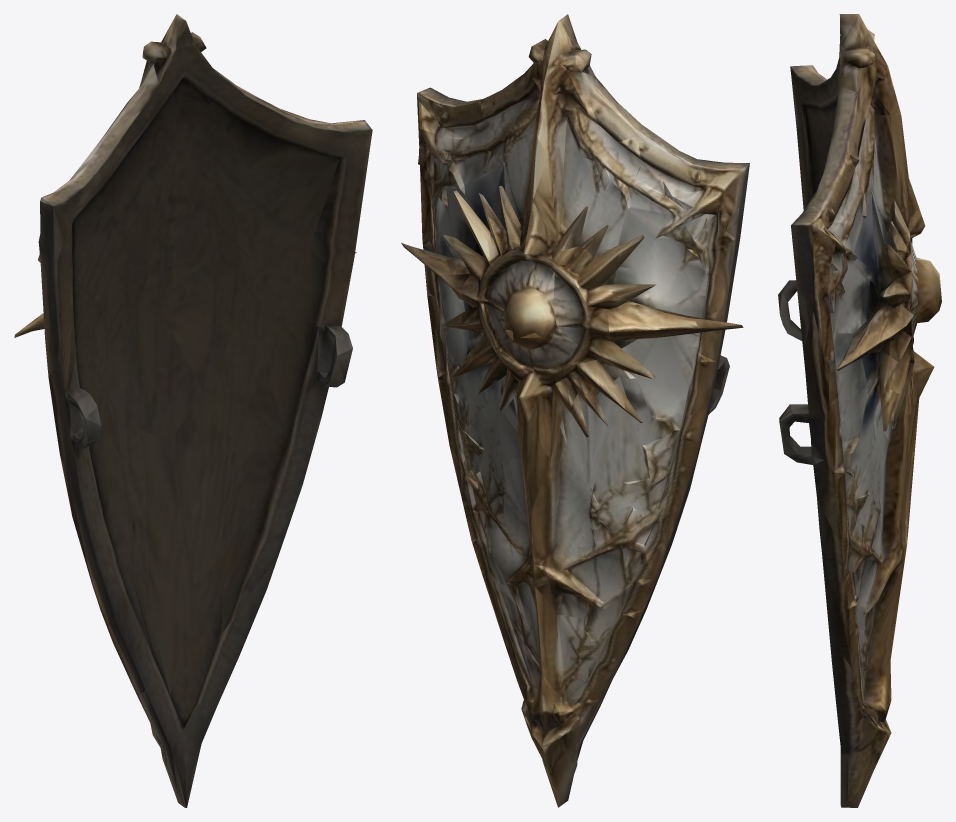
File: kite_dawnstar.glb
3 renders of one model, left to right at view 1: azimuth 30°, elevation 25°; view 2: azimuth 150°, elevation 25°; view 3: azimuth 270°, elevation 25°, orthographic.
Parts seen in each view (by area): view 1: kite_dawnstar; view 2: kite_dawnstar; view 3: kite_dawnstar.
Part boxes in pixels (x1,y1,x2,y2): kite_dawnstar: [14, 14, 372, 807]; kite_dawnstar: [401, 14, 749, 807]; kite_dawnstar: [778, 14, 941, 807].
Size of the model in its own units: 0.3878 by 0.8525 by 0.1596.
Materials: 1 (1 with a texture image).
